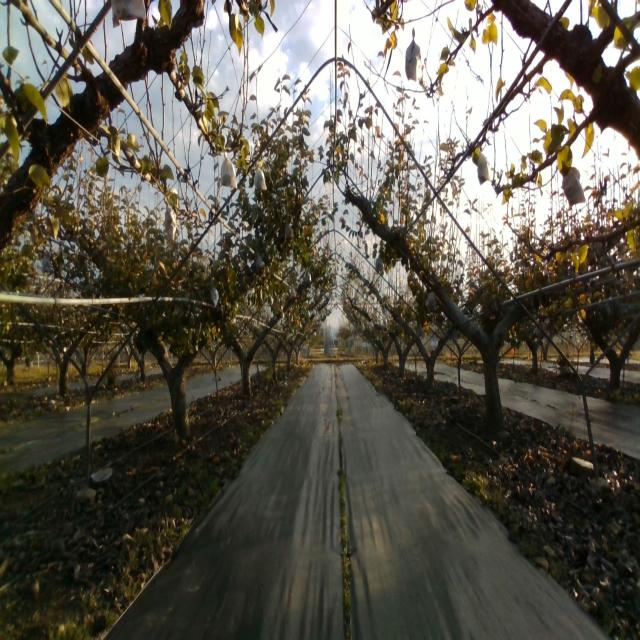pearbags: (562, 167, 586, 209), (405, 27, 422, 81), (220, 151, 238, 190), (163, 196, 177, 242), (477, 150, 489, 184), (253, 167, 267, 191), (424, 292, 436, 311), (210, 286, 219, 308)
